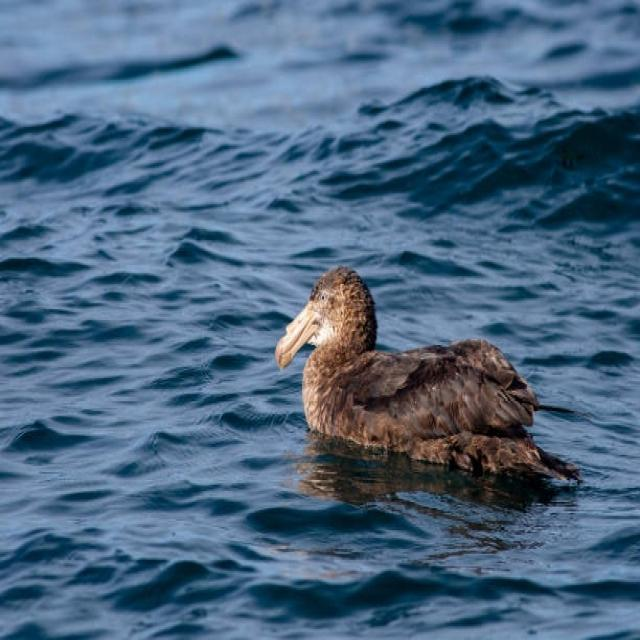delfin: (275, 267, 577, 478)
